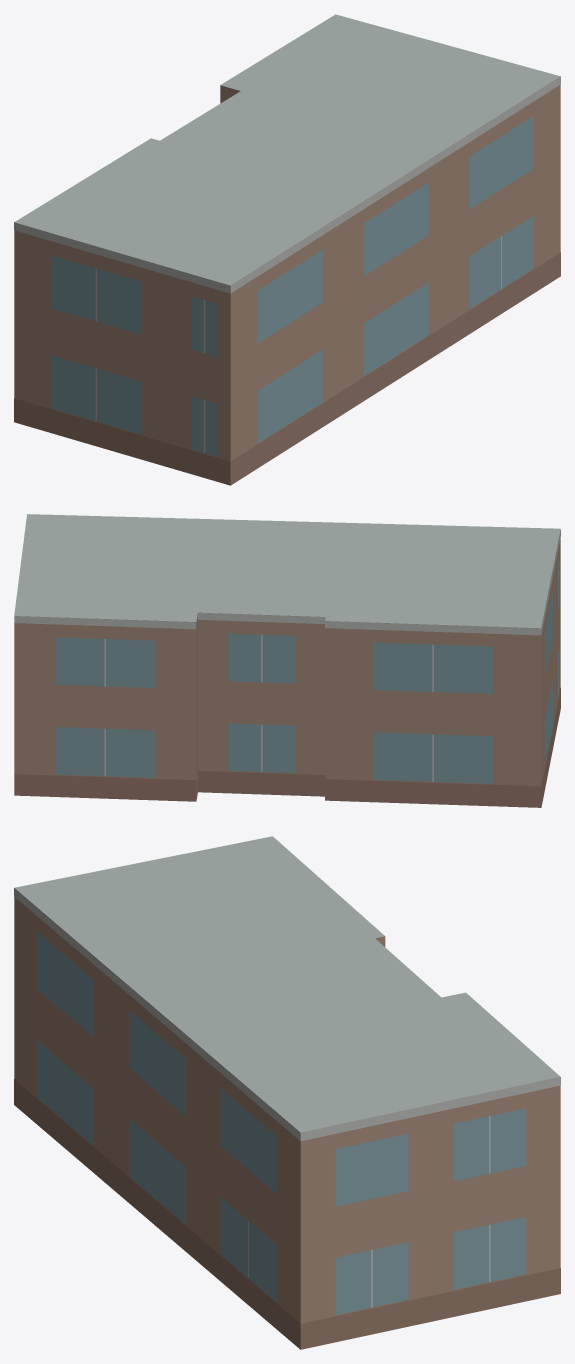
Rendered from survey-upis-32698838.glb.
3 views of the same model, one above another, from view 1: azimuth 30°, elevation 25°; view 2: azimuth 150°, elevation 25°; view 3: azimuth 270°, elevation 25° (orthographic). The views are drawn at different scales.
Parts seen in each view (by area): view 1: survey-upis-32698838.tmp; view 2: survey-upis-32698838.tmp; view 3: survey-upis-32698838.tmp.
Part boxes in pixels (x1,y1,x2,y2): survey-upis-32698838.tmp: [14, 14, 560, 485]; survey-upis-32698838.tmp: [14, 514, 560, 807]; survey-upis-32698838.tmp: [14, 836, 560, 1349].
Bounding box in the file's own units: 17.88 × 6.1 × 13.93.
